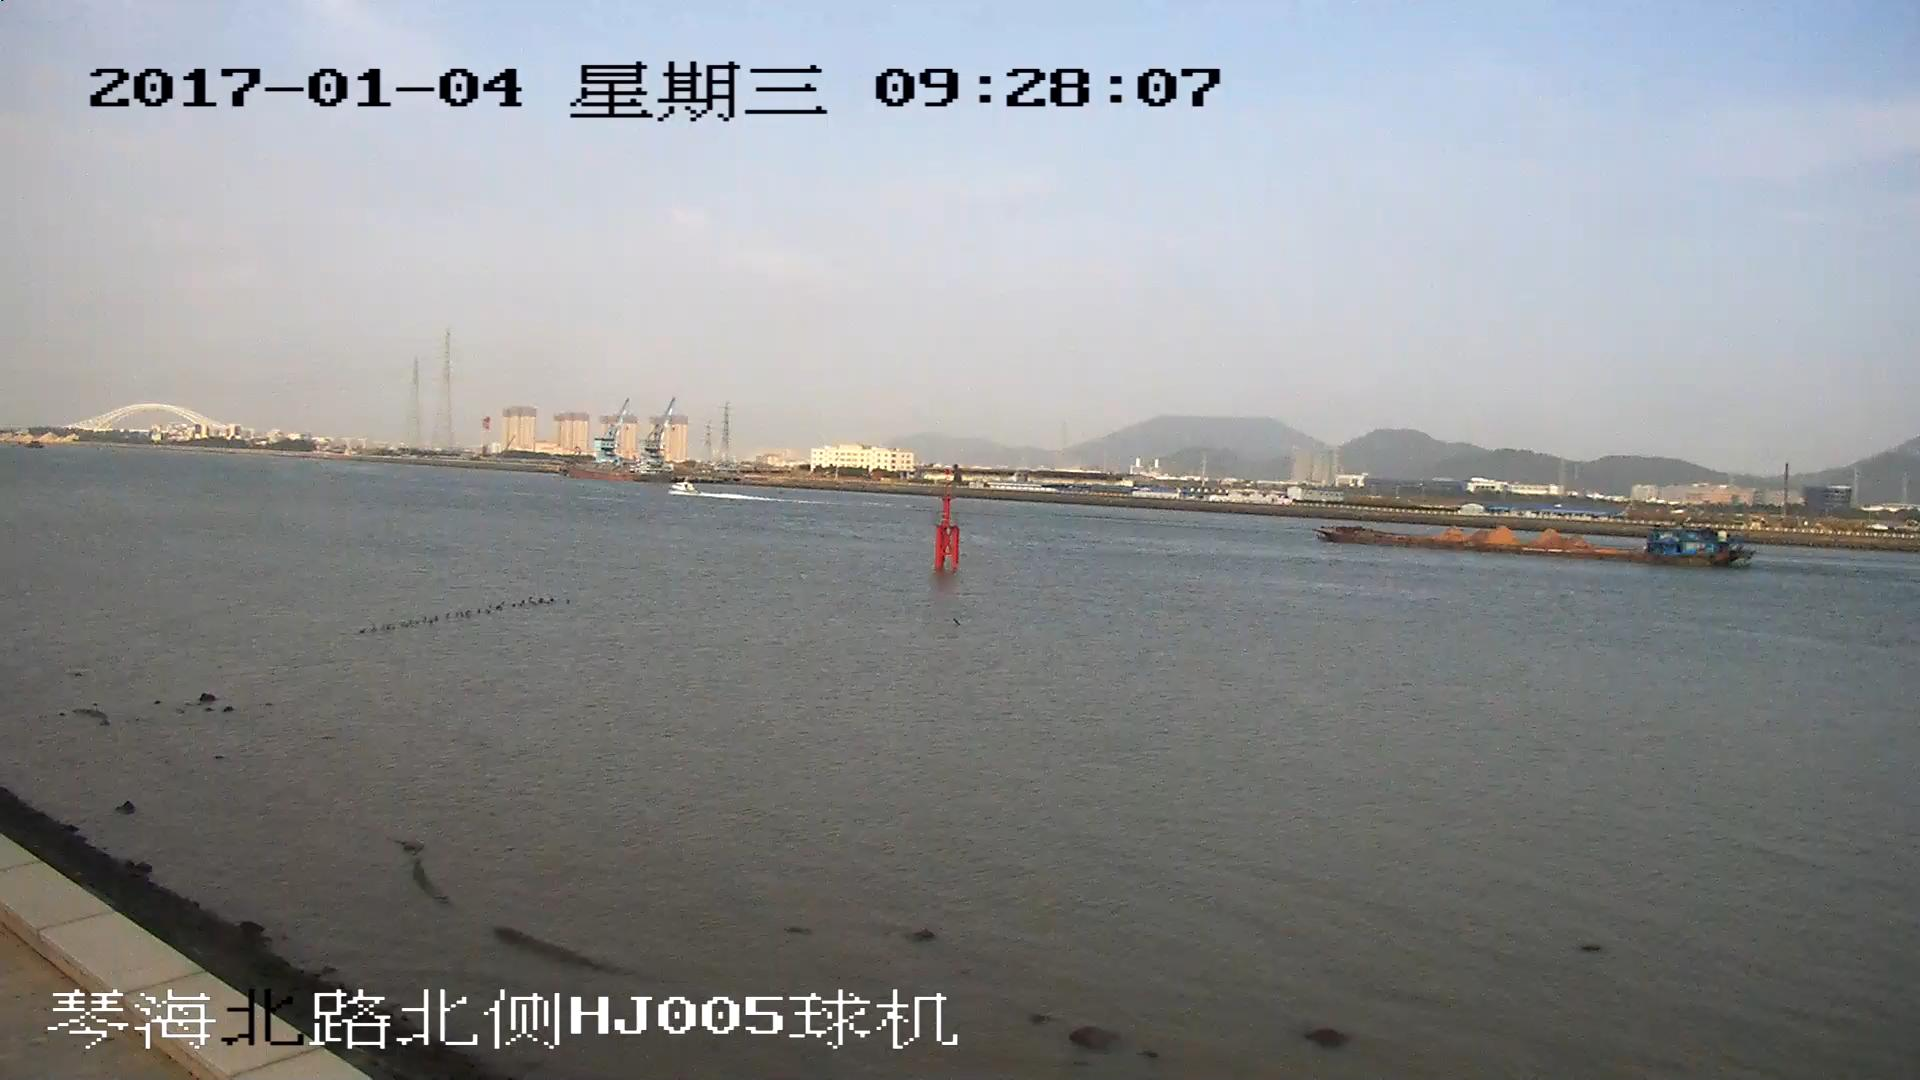ore carrier: (1312, 526, 1754, 568)
